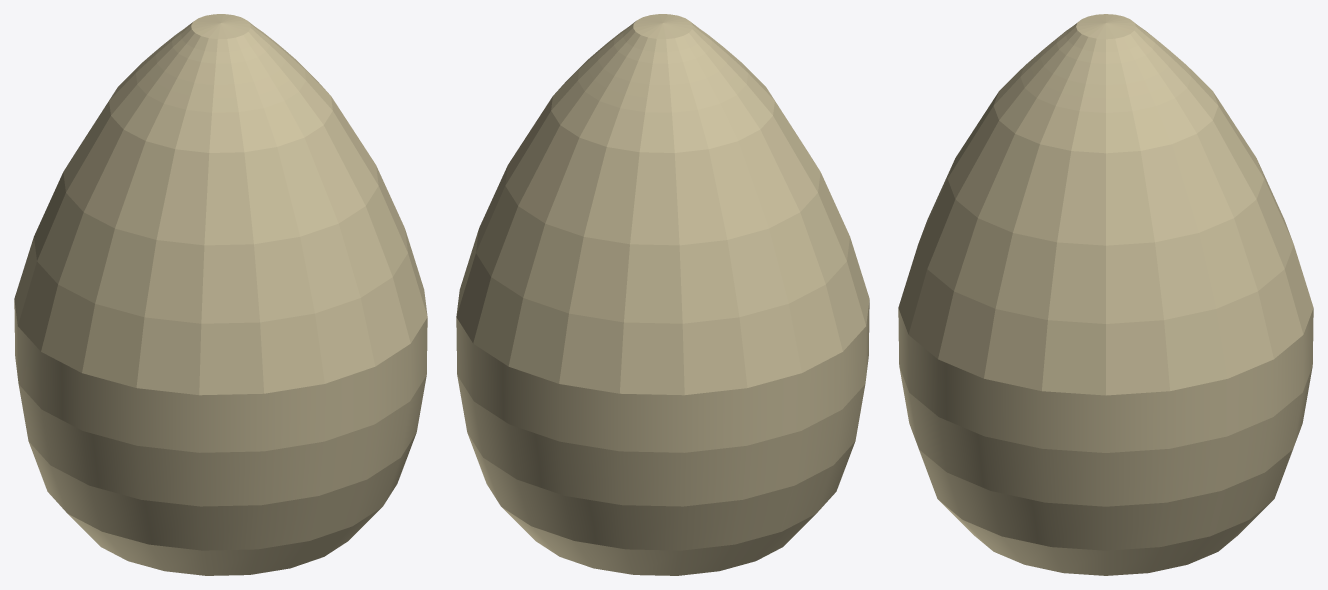
File: Egg.fbx
The picture shows the model from 3 angles, left to right: view 1: azimuth 30°, elevation 25°; view 2: azimuth 150°, elevation 25°; view 3: azimuth 270°, elevation 25°; orthographic projection.
Visible parts, largest first — view 1: pSphere1; view 2: pSphere1; view 3: pSphere1.
Part boxes in pixels (x1,y1,x2,y2): pSphere1: (14, 14, 427, 575); pSphere1: (456, 14, 869, 575); pSphere1: (898, 14, 1313, 575).
Size of the model in its own units: 2.01 by 2.78 by 2.01.
